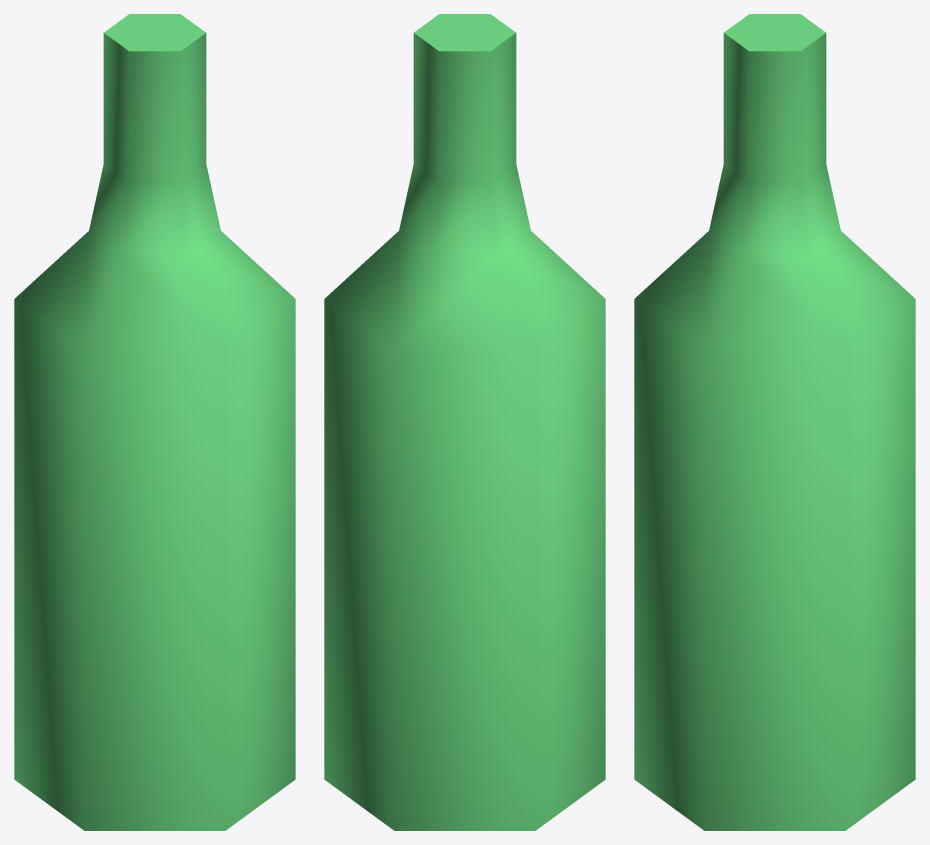
File: Bouteille.fbx
3 views of the same model, side by side, from view 1: azimuth 30°, elevation 25°; view 2: azimuth 150°, elevation 25°; view 3: azimuth 270°, elevation 25° (orthographic).
Visible parts, largest first — view 1: Bouteille; view 2: Bouteille; view 3: Bouteille.
Part boxes in pixels (box(x1,y1,x2,y2)): Bouteille: box(14, 14, 295, 830); Bouteille: box(324, 14, 605, 830); Bouteille: box(634, 14, 915, 830).
Size of the model in its own units: 6.44 by 21.75 by 7.43.
